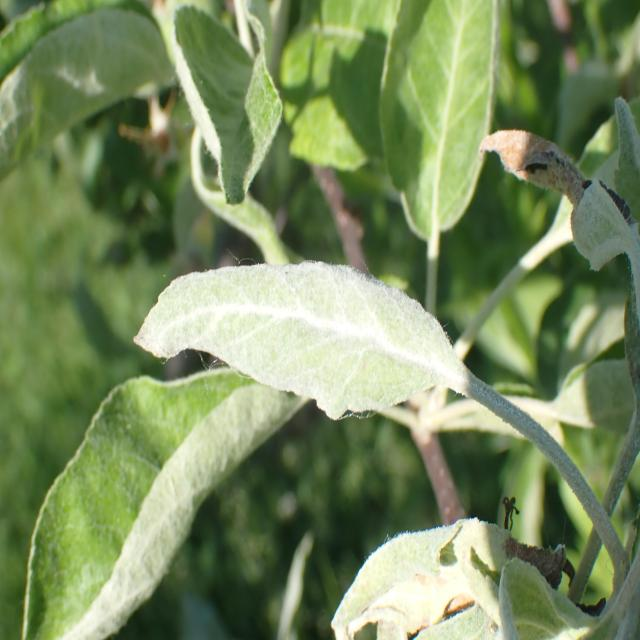Powdery_mildew: (133, 229, 482, 429), (314, 500, 640, 640), (576, 168, 640, 367)
